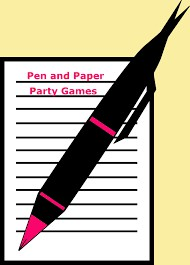pen: (20, 1, 185, 251)
